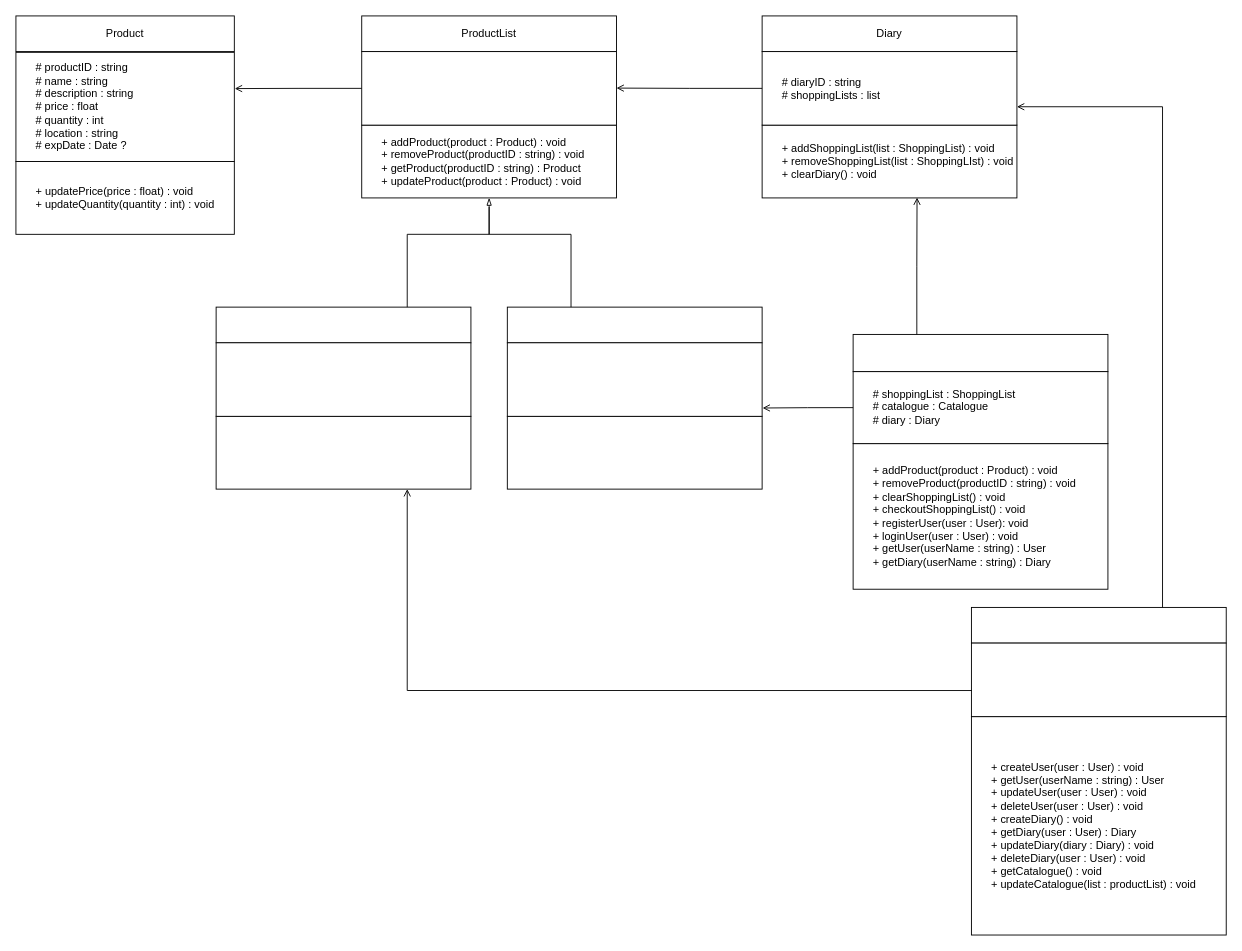
Image size: 1242x951. Some labels were removed from this diagram. Each missing label, with the centre of its shape:
# productListID : string # productList : list: the point at 489,88
# productPriceTotal : int: the point at 634,379
Bookkeeper: the point at 1098,625
Catalogue: the point at 343,324
Clerk: the point at 980,353
ShoppingList: the point at 634,324
